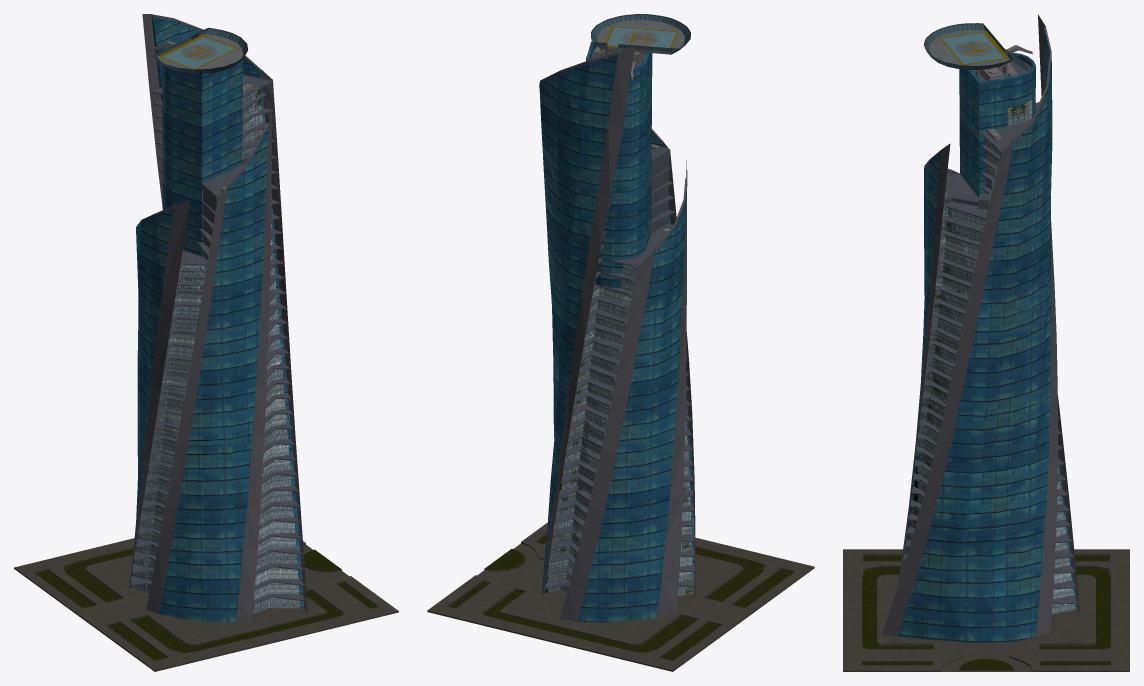
Rendered from store_025_H.FBX.
The picture shows the model from 3 angles, left to right: view 1: azimuth 30°, elevation 25°; view 2: azimuth 150°, elevation 25°; view 3: azimuth 270°, elevation 25°; orthographic projection.
Visible parts, largest first — view 1: store_025_H; view 2: store_025_H; view 3: store_025_H.
Part boxes in pixels (x1,y1,x2,y2): store_025_H: [14, 14, 398, 671]; store_025_H: [427, 14, 814, 671]; store_025_H: [843, 14, 1129, 671].
Bounding box in the file's own units: 56 × 125 × 56.
